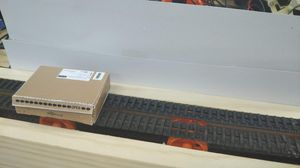box2: (10, 63, 111, 125)
